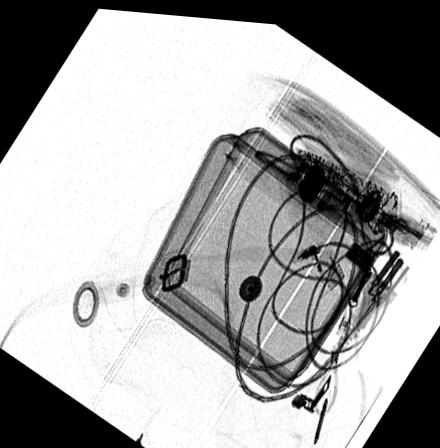Lighter: (285, 186, 344, 297)
